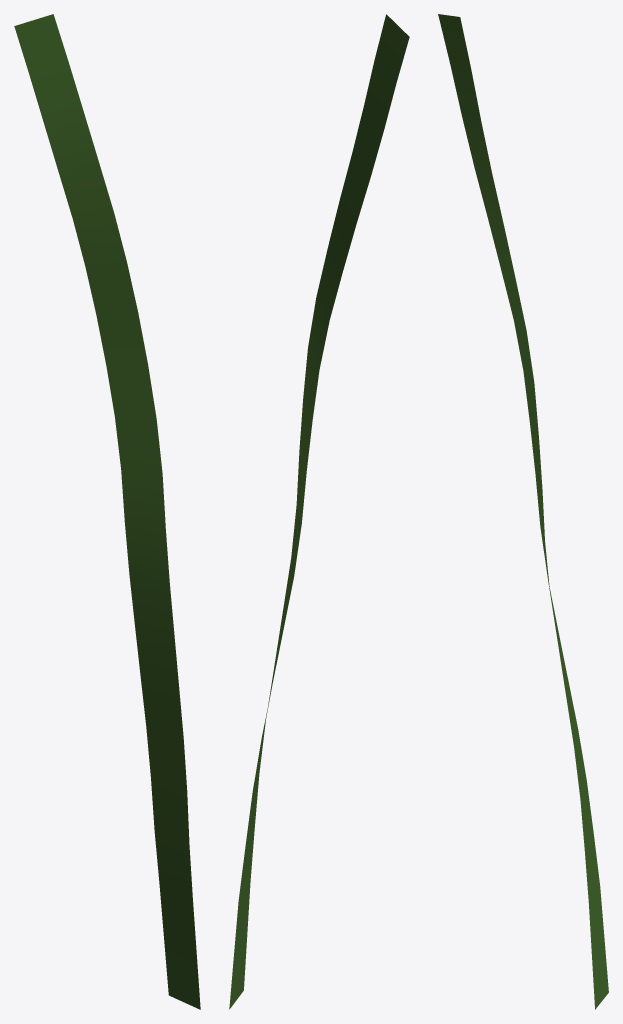
File: plant_swamp_kelp_giant_A_solo_E.fbx
3 renders of one model, left to right at view 1: azimuth 30°, elevation 25°; view 2: azimuth 150°, elevation 25°; view 3: azimuth 330°, elevation 25°, orthographic. The views are drawn at different scales.
Visible parts, largest first — view 1: plant_swamp_kelp_giant_A_solo_E; view 2: plant_swamp_kelp_giant_A_solo_E; view 3: plant_swamp_kelp_giant_A_solo_E.
Part boxes in pixels (x1,y1,x2,y2): plant_swamp_kelp_giant_A_solo_E: [14, 14, 200, 1009]; plant_swamp_kelp_giant_A_solo_E: [229, 14, 409, 1009]; plant_swamp_kelp_giant_A_solo_E: [438, 14, 608, 1009].
Size of the model in its own units: 68.69 by 381 by 21.99.
